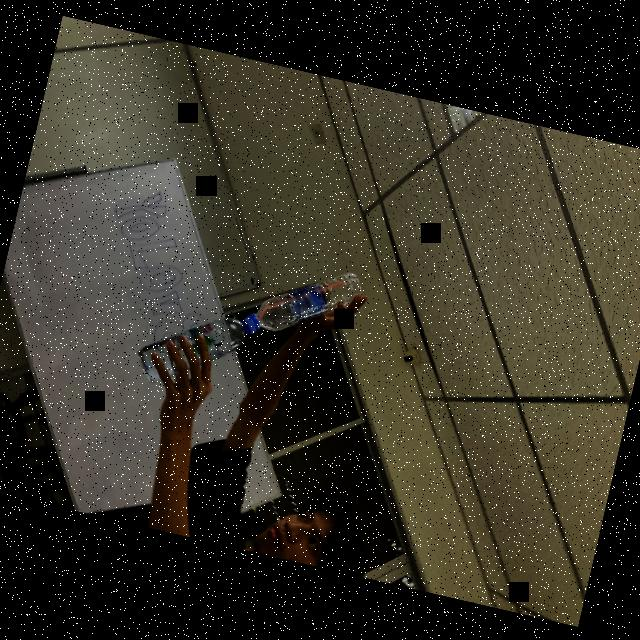plastic_bottle: (128, 293, 256, 403), (245, 250, 368, 350)
plastic_bottle_cap: (245, 312, 263, 330), (242, 316, 258, 335)
